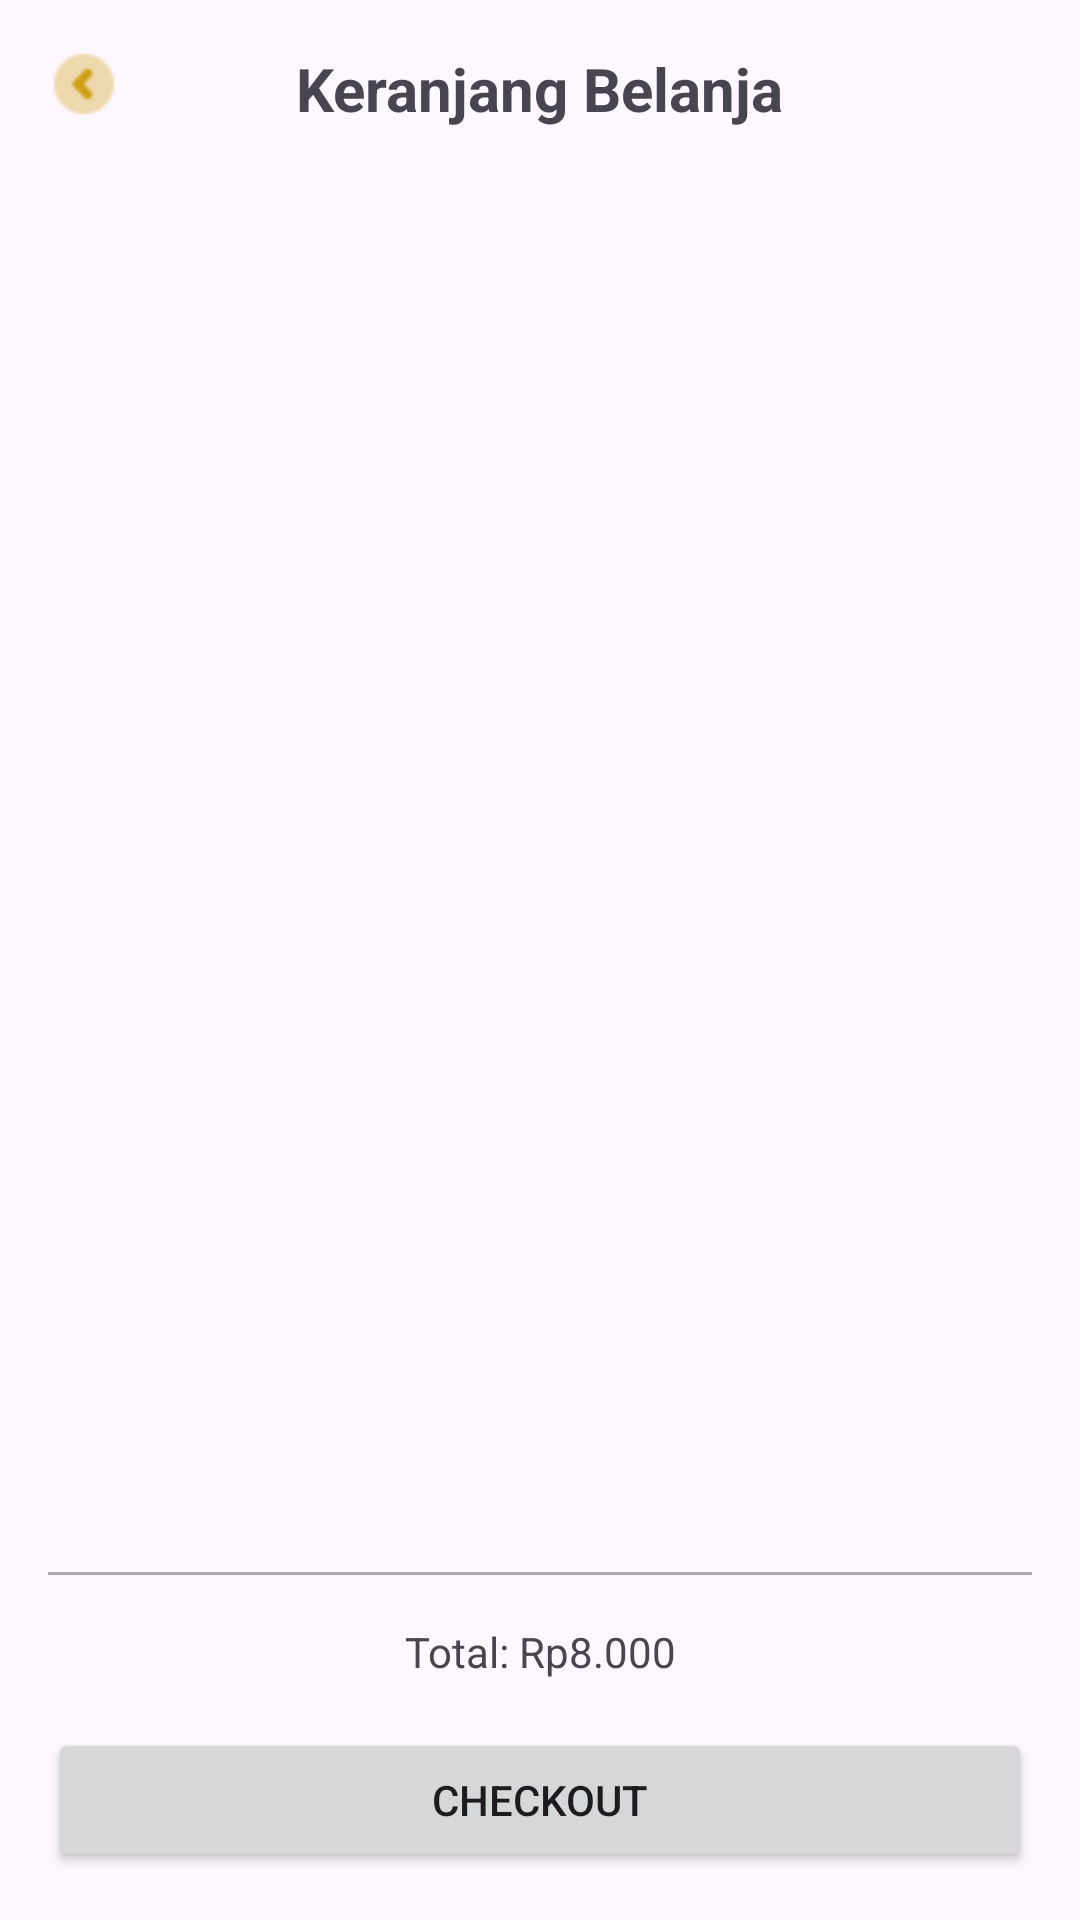

Named icons in this screenshot (1080px×1920px) and their bounding boxes, region(x1, y1, x2, y2):
arrow left: region(53, 53, 115, 115)
